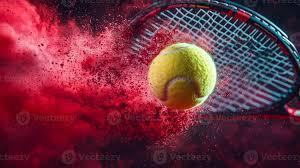ball_tennis: (149, 42, 217, 110)
